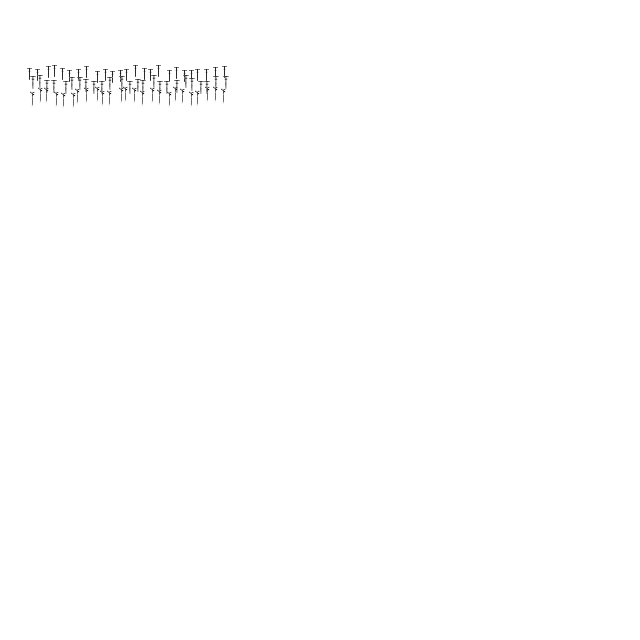double treble: (30, 91, 36, 107), (38, 87, 44, 103), (44, 87, 50, 103), (54, 91, 60, 107), (84, 87, 90, 103), (100, 90, 106, 106), (132, 87, 138, 103), (140, 90, 146, 106), (150, 87, 156, 103), (180, 88, 186, 104), (30, 76, 36, 90), (44, 80, 50, 94), (51, 80, 57, 94), (119, 76, 125, 90), (140, 80, 146, 94), (174, 80, 180, 94), (189, 78, 195, 92), (213, 76, 219, 90), (223, 76, 229, 90), (46, 66, 52, 78), (52, 65, 58, 77), (60, 68, 66, 80), (76, 69, 82, 81), (84, 66, 90, 78), (110, 71, 116, 83), (118, 70, 124, 82), (124, 69, 130, 81), (142, 68, 148, 80), (148, 69, 154, 81), (156, 65, 162, 77), (174, 67, 180, 79), (182, 70, 188, 82), (204, 69, 210, 81), (222, 66, 228, 78), (37, 76, 43, 88), (63, 82, 69, 94), (69, 78, 75, 90), (77, 78, 83, 90), (83, 80, 89, 92), (91, 82, 97, 94), (99, 82, 105, 94), (107, 78, 113, 90), (127, 82, 133, 94), (135, 80, 141, 92), (151, 76, 157, 88), (157, 82, 163, 94), (164, 82, 170, 94), (183, 76, 189, 88), (198, 82, 204, 94), (204, 82, 210, 94), (62, 92, 66, 108), (72, 92, 76, 108), (76, 88, 80, 104), (96, 86, 100, 102), (108, 90, 112, 106), (120, 87, 124, 103), (124, 86, 128, 102), (158, 89, 162, 105), (168, 91, 172, 107), (174, 86, 178, 102), (190, 91, 194, 107), (196, 90, 200, 106), (206, 86, 210, 102), (214, 86, 218, 102), (222, 88, 226, 104), (28, 68, 32, 80), (36, 69, 40, 81), (68, 70, 72, 82), (96, 71, 100, 83), (104, 69, 108, 81), (134, 65, 138, 77), (168, 70, 172, 82), (190, 70, 194, 82), (196, 69, 200, 81), (214, 67, 218, 79)
